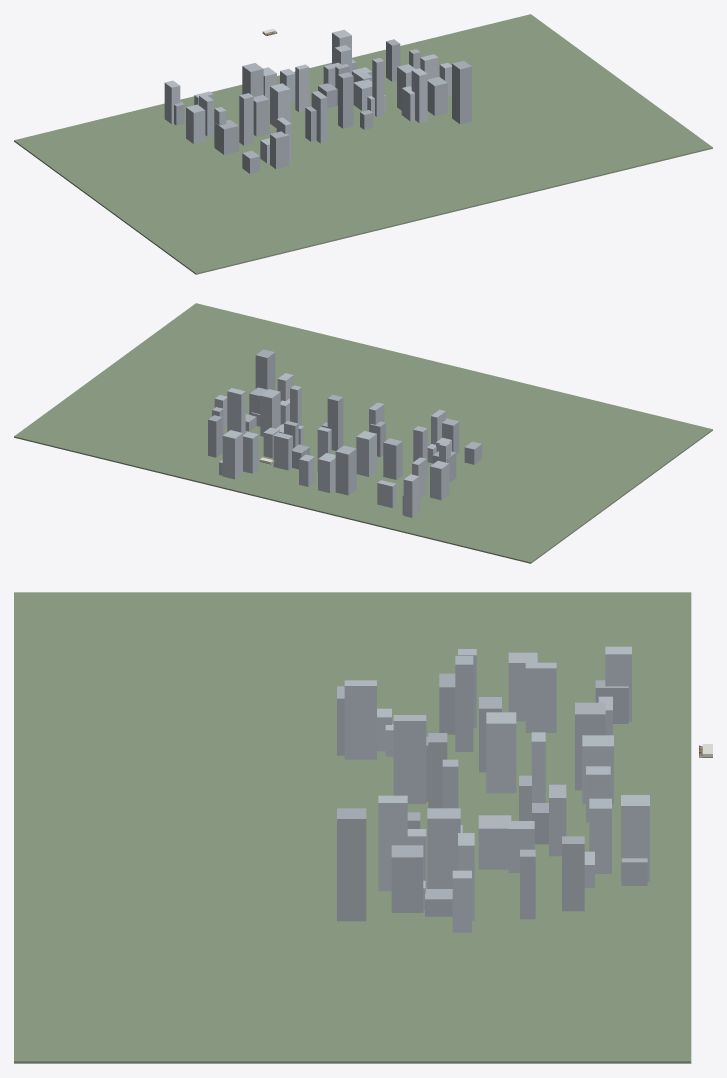
Rendered from atico-mirador.glb.
3 views of the same model, one above another, from view 1: azimuth 30°, elevation 25°; view 2: azimuth 150°, elevation 25°; view 3: azimuth 270°, elevation 25° (orthographic). The views are drawn at different scales.
Parts seen in each view (by area): view 1: bg_ground, bg_city; view 2: bg_ground, bg_city; view 3: bg_ground, bg_city.
Boxes of the visible parts, x1,y1,x2,y2 form: bg_ground: (14, 14, 712, 274); bg_city: (164, 29, 471, 173); bg_ground: (14, 303, 712, 563); bg_city: (208, 349, 482, 517); bg_ground: (14, 592, 691, 1063); bg_city: (337, 646, 649, 932).
Size of the model in its own units: 800 by 83.2 by 504.
